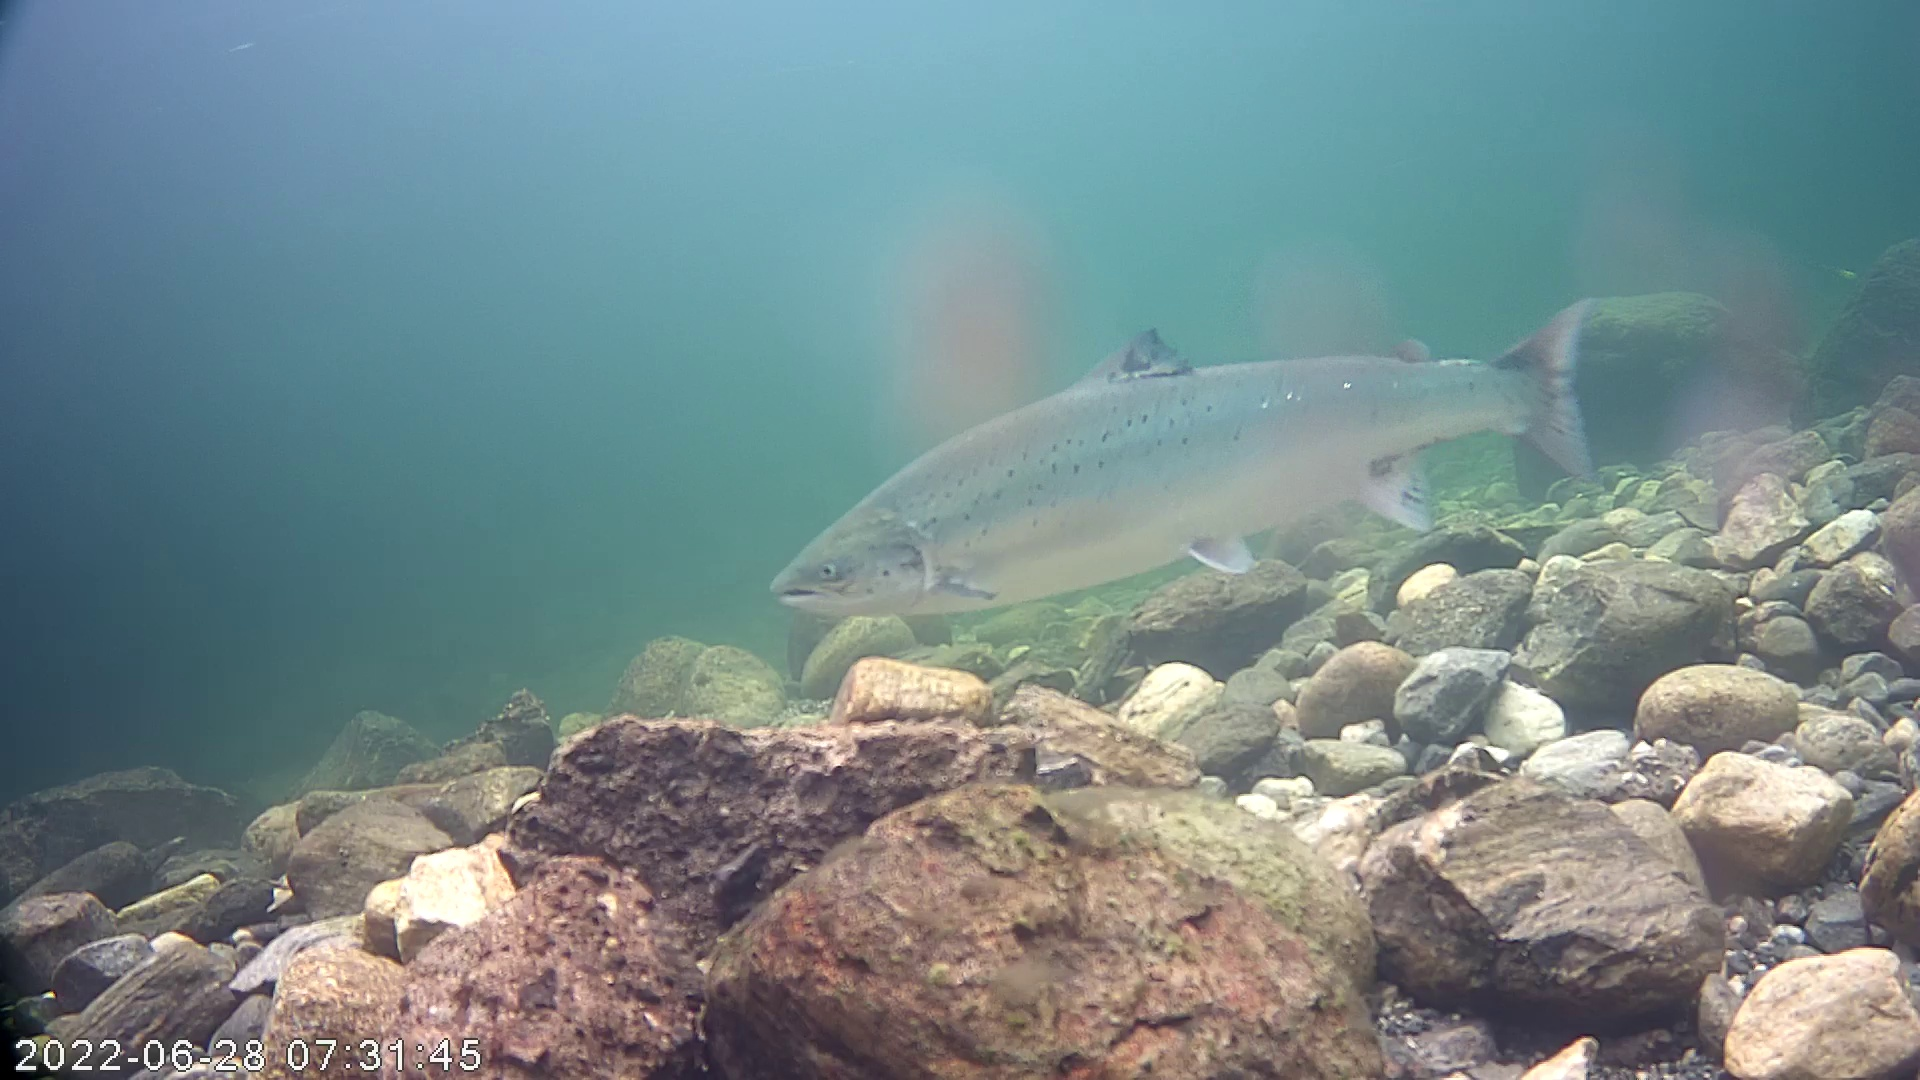salmon: (771, 222, 1623, 644)
